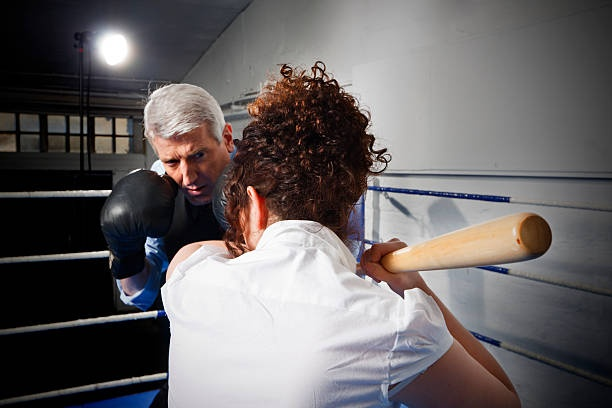bita: (377, 209, 560, 276)
